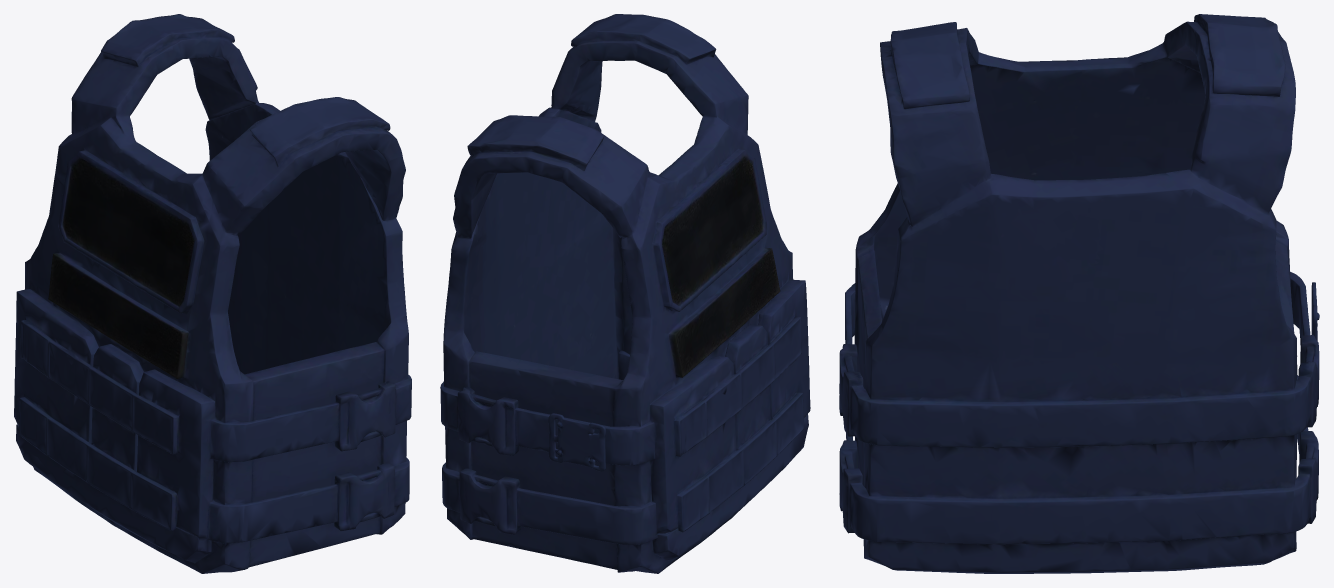
Rendered from armor_vest.glb.
3 views of the same model, side by side, from view 1: azimuth 30°, elevation 25°; view 2: azimuth 150°, elevation 25°; view 3: azimuth 270°, elevation 25° (orthographic). The views are drawn at different scales.
Visible parts, largest first — view 1: geometry_0; view 2: geometry_0; view 3: geometry_0.
Boxes of the visible parts, x1=… form: geometry_0: x1=14, y1=14, x2=411, y2=573; geometry_0: x1=440, y1=14, x2=810, y2=573; geometry_0: x1=839, y1=14, x2=1319, y2=573.
Bounding box in the file's own units: 0.4289 × 0.7 × 0.6005.
Materials: 1 (1 with a texture image).
